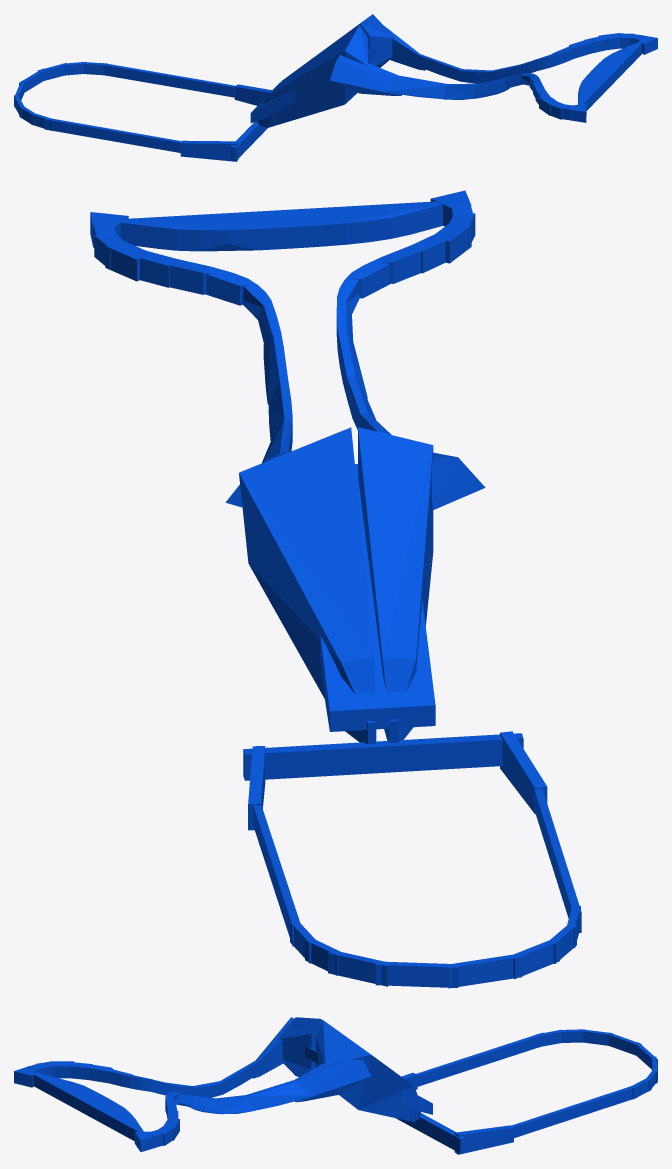
The model's file is 9_holes_hole_3_walls.glb.
3 views of the same model, one above another, from view 1: azimuth 30°, elevation 25°; view 2: azimuth 150°, elevation 25°; view 3: azimuth 270°, elevation 25° (orthographic). The views are drawn at different scales.
Parts seen in each view (by area): view 1: BlueWhale Green.001, BlueWhale Green.042, BlueWhale Green.074, BlueWhale Green.032, BlueWhale Green.033, BlueWhale Green.002, Cube.004, BlueWhale Green.075, shoot top, BlueWhale Green.003, Cube.003, BlueWhale Green.004 (+16 smaller); view 2: BlueWhale Green.002, BlueWhale Green.001, BlueWhale Green.042, Cube.003, shoot top, BlueWhale Green.074, BlueWhale Green.032, BlueWhale Green.033, Cube.004, BlueWhale Green.037, BlueWhale Green.038, BlueWhale Green.036 (+3 smaller); view 3: BlueWhale Green.002, BlueWhale Green.042, BlueWhale Green.003, BlueWhale Green.032, BlueWhale Green.033, BlueWhale Green.001, BlueWhale Green.004, Cube, Cube.003, BlueWhale Green.074, BlueWhale Green.075, BlueWhale Green.005 (+18 smaller).
Boxes of the visible parts, x1,y1,x2,y2 form: BlueWhale Green.001: (257,25,367,127); BlueWhale Green.042: (578,41,642,110); BlueWhale Green.074: (330,54,401,95); BlueWhale Green.032: (44,117,181,152); BlueWhale Green.033: (102,63,236,97); BlueWhale Green.002: (276,14,394,86); Cube.004: (180,140,238,161); BlueWhale Green.075: (385,75,447,99); shoot top: (250,88,296,122); BlueWhale Green.003: (384,26,425,70); Cube.003: (230,121,267,160); BlueWhale Green.004: (418,54,461,81); BlueWhale Green.002: (239,427,376,744); BlueWhale Green.001: (358,427,433,742); BlueWhale Green.042: (120,201,442,251); Cube.003: (243,733,523,780); shoot top: (320,474,435,731); BlueWhale Green.074: (431,452,485,510); BlueWhale Green.032: (534,788,581,932); BlueWhale Green.033: (253,804,300,946); Cube.004: (500,731,547,814); BlueWhale Green.037: (375,961,458,987); BlueWhale Green.038: (447,954,522,988); BlueWhale Green.036: (328,950,390,986); BlueWhale Green.002: (315,1020,420,1121); BlueWhale Green.042: (33,1072,143,1140); BlueWhale Green.003: (294,1059,371,1102); BlueWhale Green.032: (416,1032,544,1087); BlueWhale Green.033: (511,1085,637,1137); BlueWhale Green.001: (278,1017,322,1076); BlueWhale Green.004: (246,1080,312,1110); Cube: (454,1125,513,1154); Cube.003: (396,1113,465,1153); BlueWhale Green.074: (252,1017,294,1078); BlueWhale Green.075: (220,1060,259,1094); BlueWhale Green.005: (216,1095,253,1113).
Size of what is drawn, in the model's own units: 21.9 by 6.2 by 25.61.
